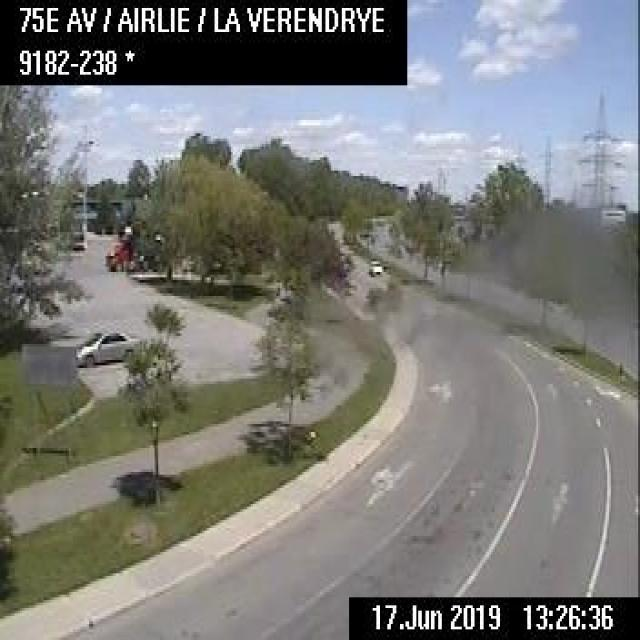vehicle: (73, 325, 139, 366), (103, 240, 130, 270), (366, 257, 382, 275)
